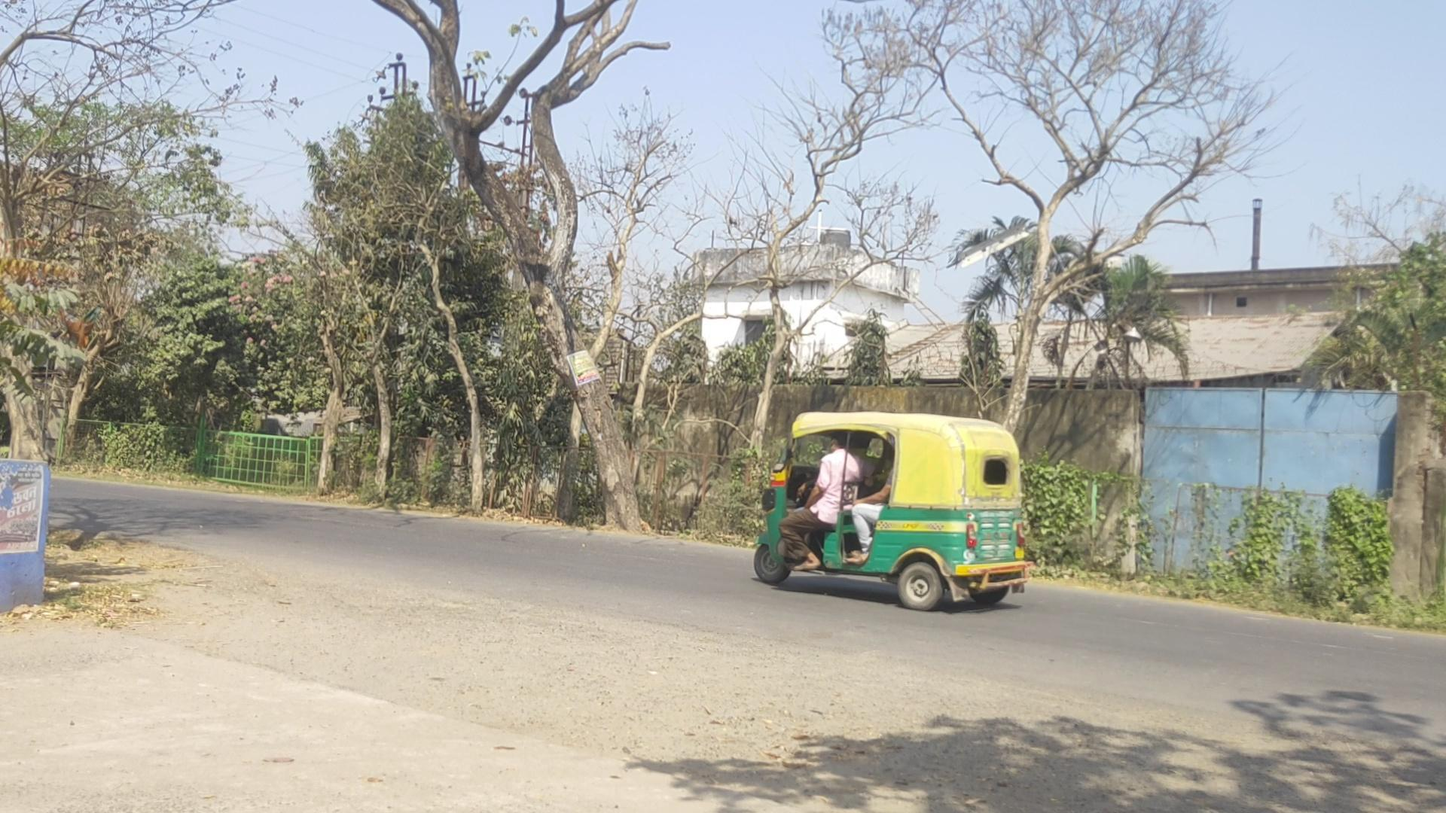Auto: (755, 410, 1033, 614)
